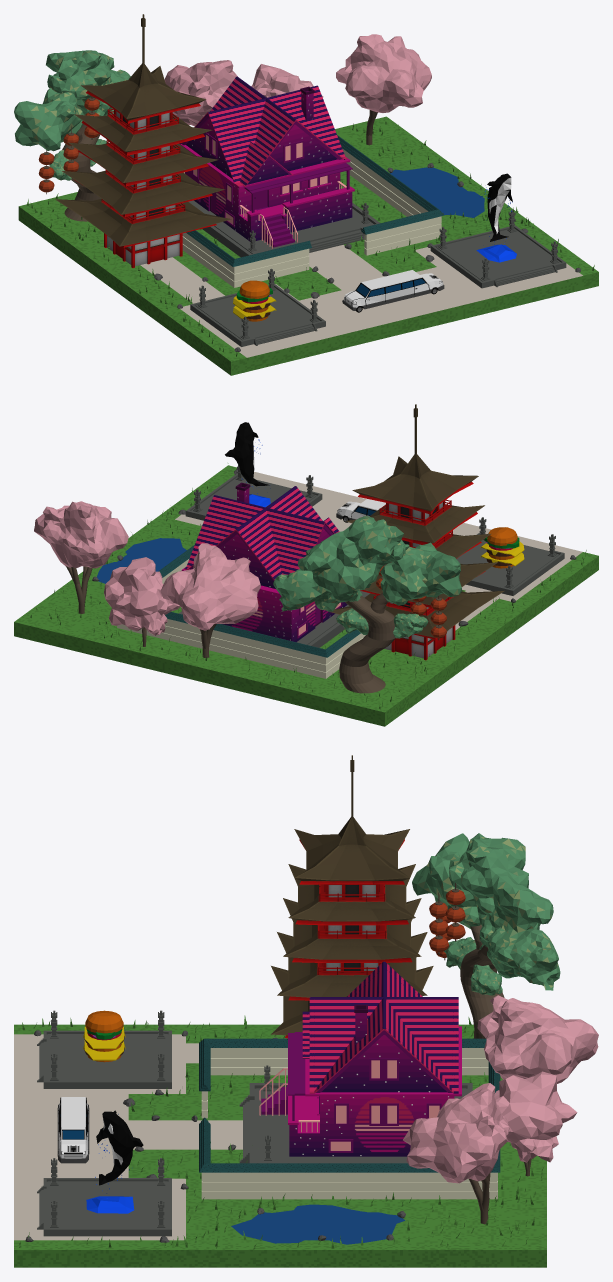
3 views of the same model, one above another, from view 1: azimuth 30°, elevation 25°; view 2: azimuth 150°, elevation 25°; view 3: azimuth 270°, elevation 25° (orthographic). The views are drawn at different scales.
Parts seen in each view (by area): view 1: Cube.005, Cube.156, VEHICLES_LIMOUSINE, ANIMAL_ORCA, OBJRANDOM_HAMBURGER; view 2: Cube.005, Cube.156, OBJRANDOM_HAMBURGER, ANIMAL_ORCA, VEHICLES_LIMOUSINE; view 3: Cube.005, Cube.156, ANIMAL_ORCA, VEHICLES_LIMOUSINE, OBJRANDOM_HAMBURGER.
Part boxes in pixels (x1,y1,x2,y2): Cube.005: (14,14,598,375); Cube.156: (179,76,354,248); VEHICLES_LIMOUSINE: (342,270,444,312); ANIMAL_ORCA: (476,173,516,262); OBJRANDOM_HAMBURGER: (233,280,276,321); Cube.005: (14,404,598,726); Cube.156: (181,482,347,642); OBJRANDOM_HAMBURGER: (480,527,524,568); ANIMAL_ORCA: (225,422,270,507); VEHICLES_LIMOUSINE: (336,499,385,522); Cube.005: (14,755,598,1267); Cube.156: (259,961,461,1156); ANIMAL_ORCA: (86,1110,143,1213); VEHICLES_LIMOUSINE: (57,1097,89,1163); OBJRANDOM_HAMBURGER: (83,1010,125,1062).
Bounding box in the file's own units: 4528 × 2690 × 4389.
45 materials, 7 textured.
